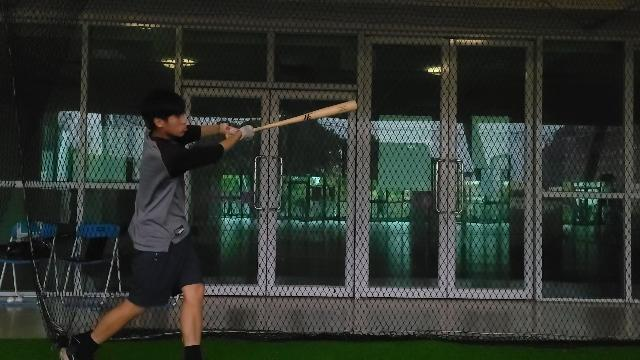bat: (255, 100, 359, 132)
